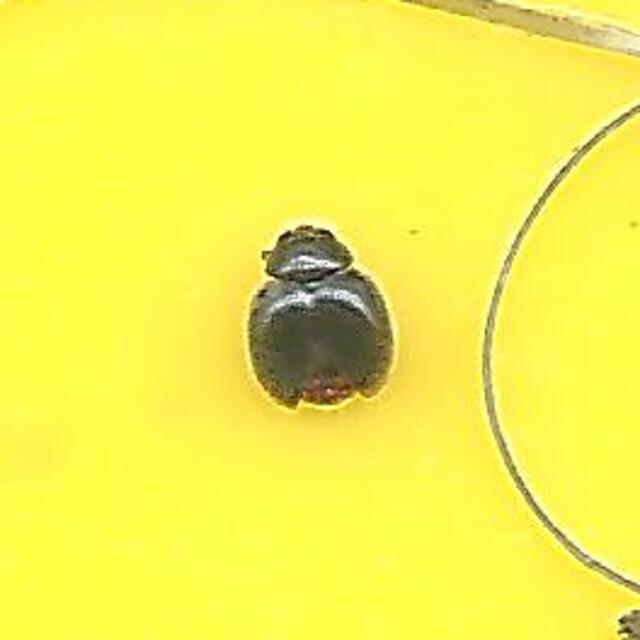Coleoptera: (242, 230, 398, 410)
